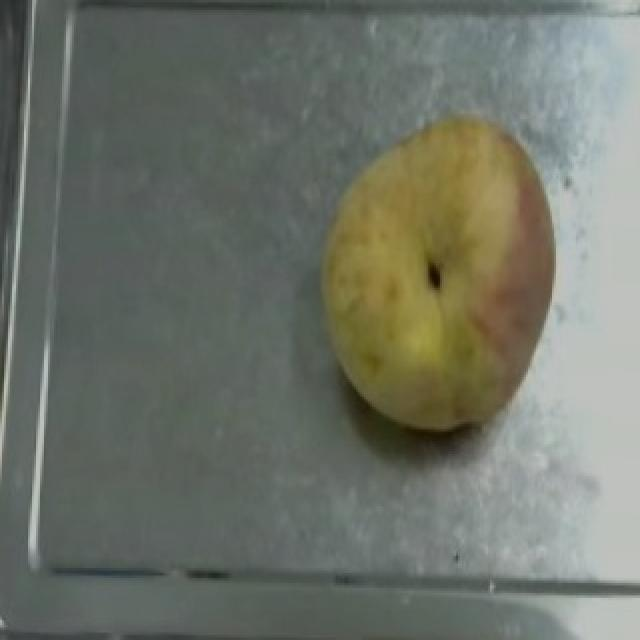Fruit: (302, 101, 576, 446)
